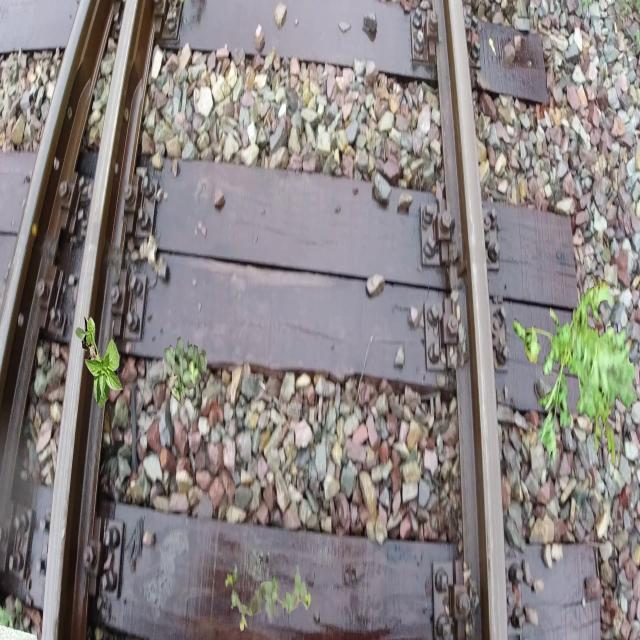Plant: (513, 273, 638, 469), (225, 563, 312, 632), (76, 314, 124, 409), (164, 337, 208, 404)
